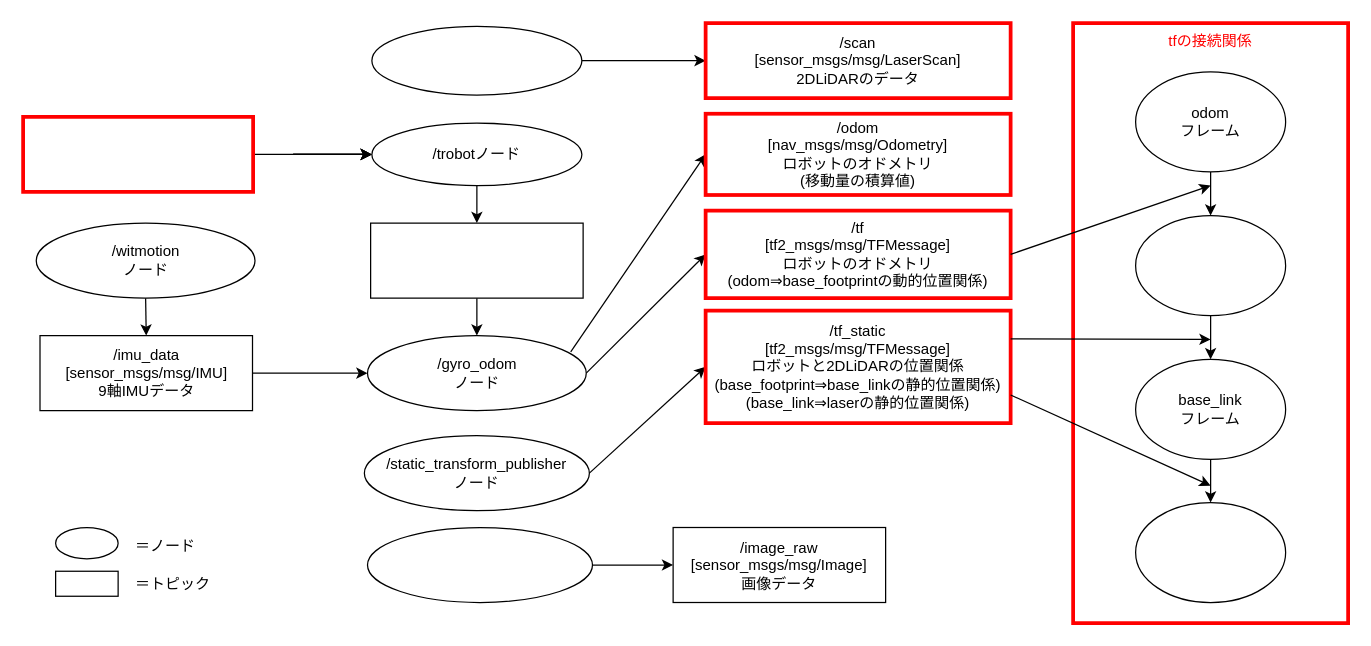
Image size: 1371x646. Some labels were removed from this diagram. Each missing label, with the box of its shape:
/cmd_vel [geometry_msgs/msg/Twist] 速度指令値: (21, 114, 254, 193)
/realsense_camera ノード: (366, 526, 592, 602)
/sllidar_ros2ノード: (371, 25, 582, 95)
/wheel_odom [nav_msgs/msg/Odometry] ホイールエンコーダ: (369, 222, 583, 298)
base_footprint フレーム: (1134, 214, 1286, 316)
laser フレーム: (1134, 501, 1286, 602)
